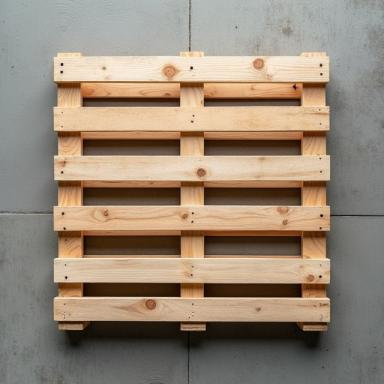pallet: (53, 51, 331, 331)
